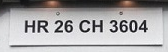0: (129, 19, 138, 33)
2: (53, 19, 65, 34)
3: (109, 18, 119, 34)
4: (138, 19, 149, 34)
6: (64, 19, 74, 33), (119, 19, 129, 33)
C: (79, 19, 91, 34)
H: (91, 18, 105, 33), (24, 19, 37, 34)
R: (36, 20, 51, 35)
